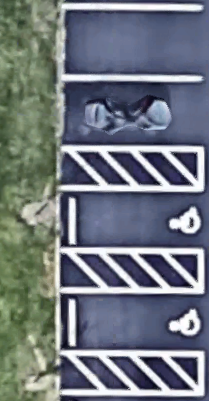Occupied: (62, 79, 203, 149)
Vacant: (62, 6, 204, 79), (72, 188, 203, 252), (73, 290, 201, 355)
